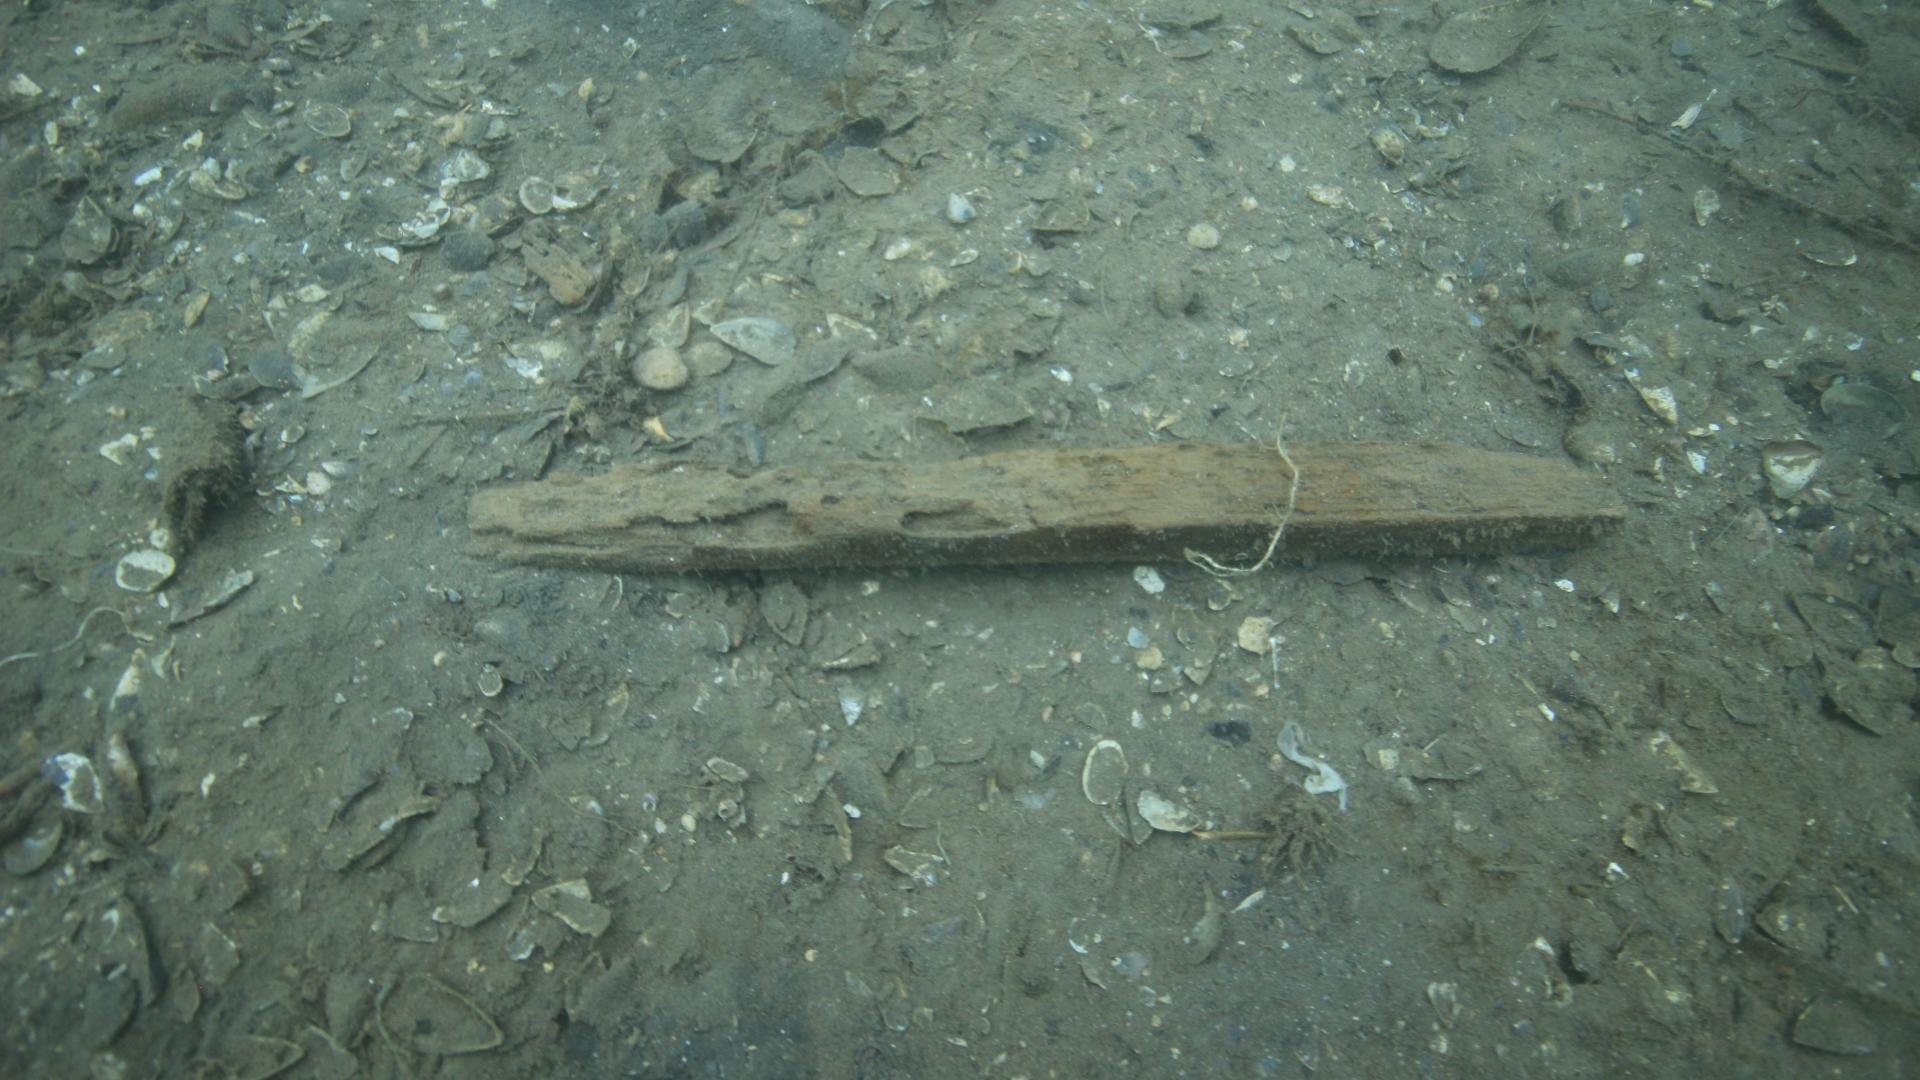wood: (464, 429, 1635, 585)
